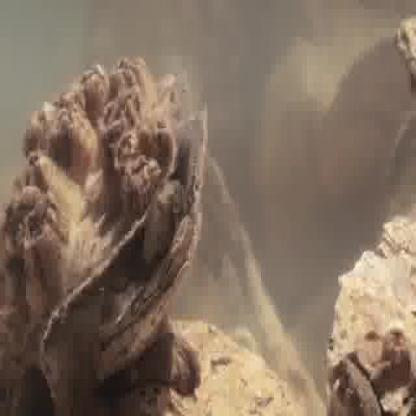Oyster-Closed: (128, 318, 304, 416), (330, 252, 416, 415), (108, 333, 200, 395), (381, 217, 416, 263)
Oyster-Open: (1, 51, 207, 381), (325, 364, 385, 416)
